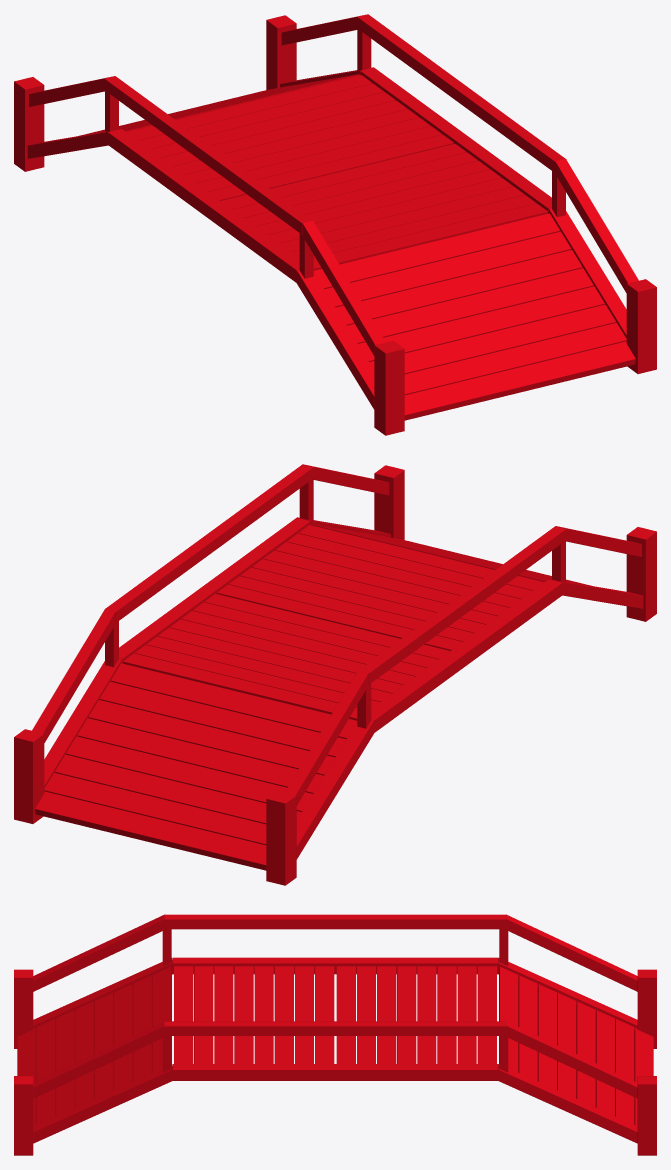
File: medivalBridge.fbx
3 renders of one model, top to bottom at view 1: azimuth 30°, elevation 25°; view 2: azimuth 150°, elevation 25°; view 3: azimuth 270°, elevation 25°, orthographic. The views are drawn at different scales.
Visible parts, largest first — view 1: Bridge; view 2: Bridge; view 3: Bridge.
Part boxes in pixels (<box>): Bridge: <box>14,14,656,435</box>; Bridge: <box>14,464,656,885</box>; Bridge: <box>14,914,656,1155</box>.
Size of the model in its own units: 975 by 509 by 2311.
